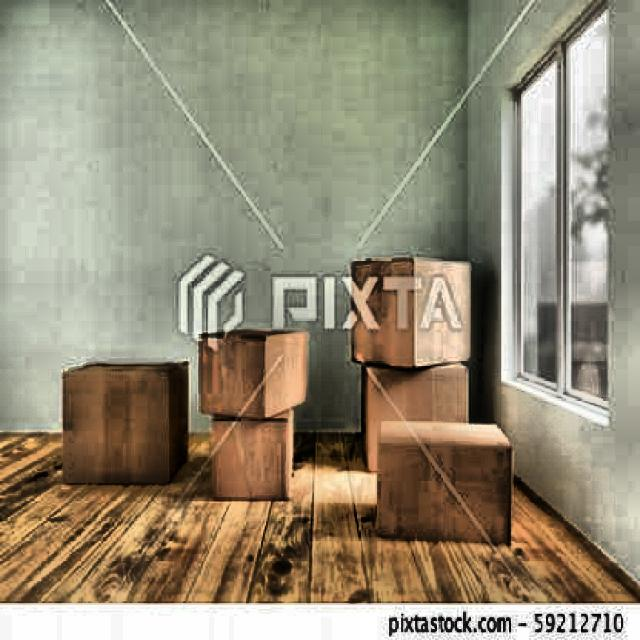Cardbox: (65, 334, 318, 486), (351, 256, 471, 367)
